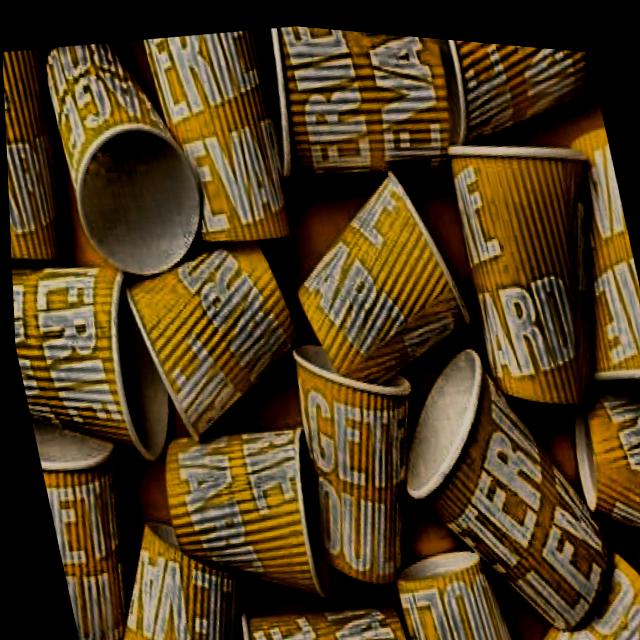Cup: (367, 312, 626, 640), (438, 104, 622, 422), (100, 200, 319, 461), (267, 144, 485, 397), (265, 308, 452, 600), (24, 24, 216, 292), (133, 390, 345, 628), (8, 225, 192, 498)
